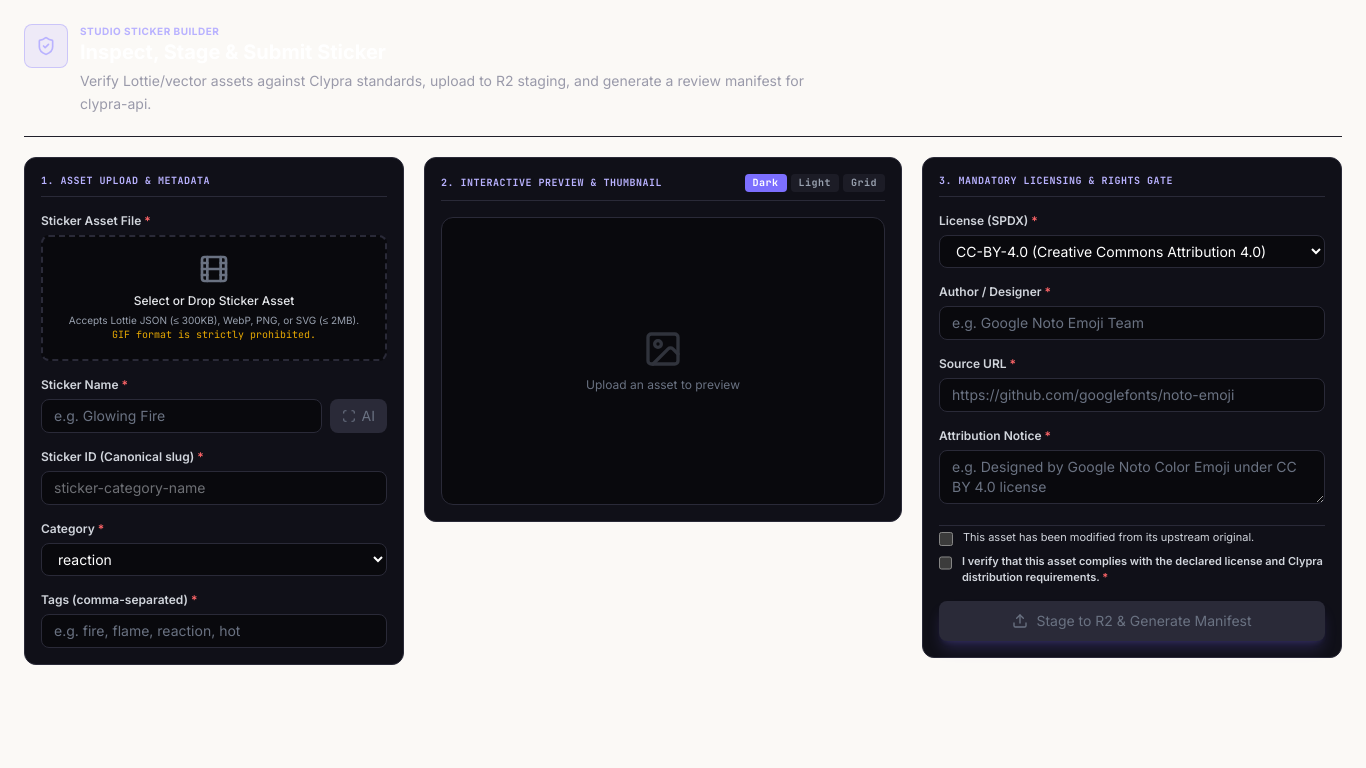
Test case: StickerPublishPanel — Studio Sticker Builder Component › auto-generates canonical slug ID from sticker name and category
The width and height of the screenshot is (1366, 768).
In the field with placeholder "e.g. Glowing Fire": (181, 416) [41,399,322,433], type "Super Cool Fire"
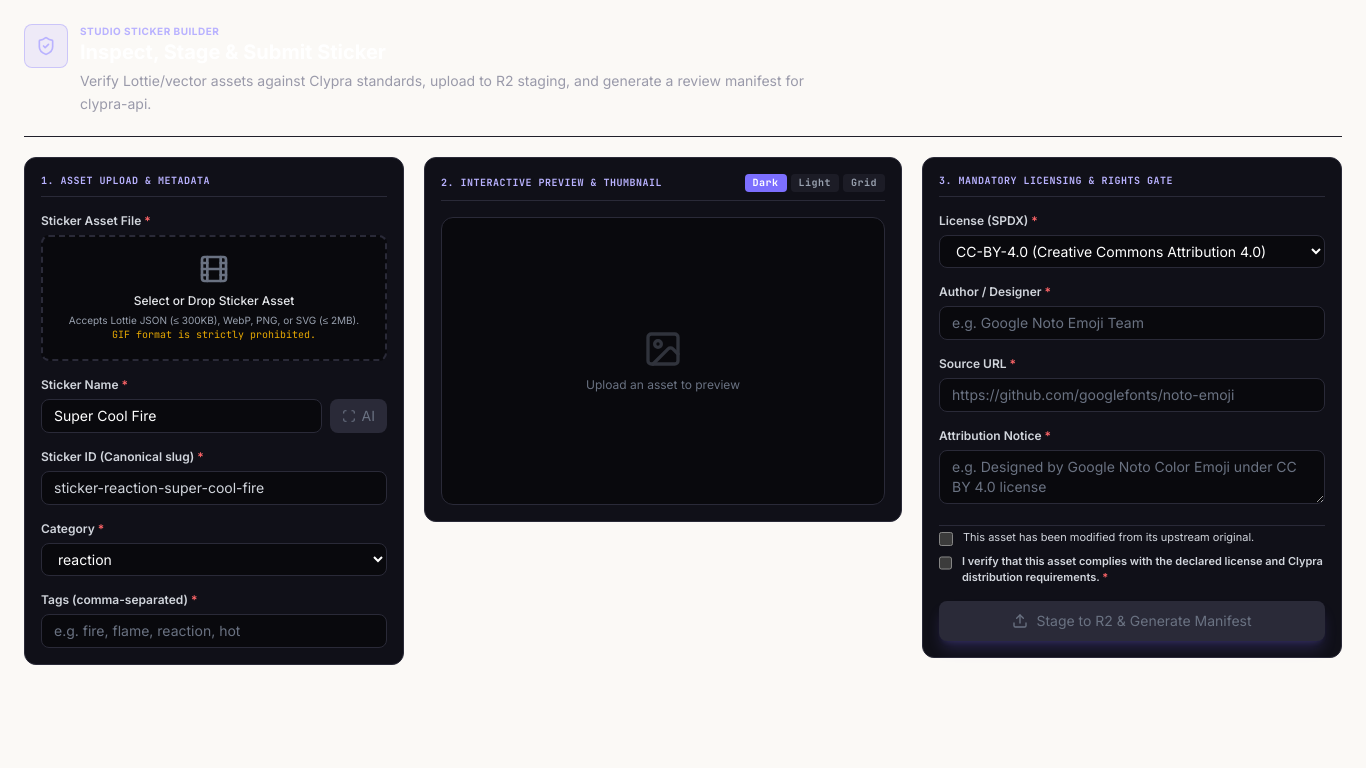
expect the field with placeholder "sticker-category-name" below "Sticker ID (Canonical slug)" holds "sticker-reaction-super-cool-fire": met, box [41,471,387,505]
